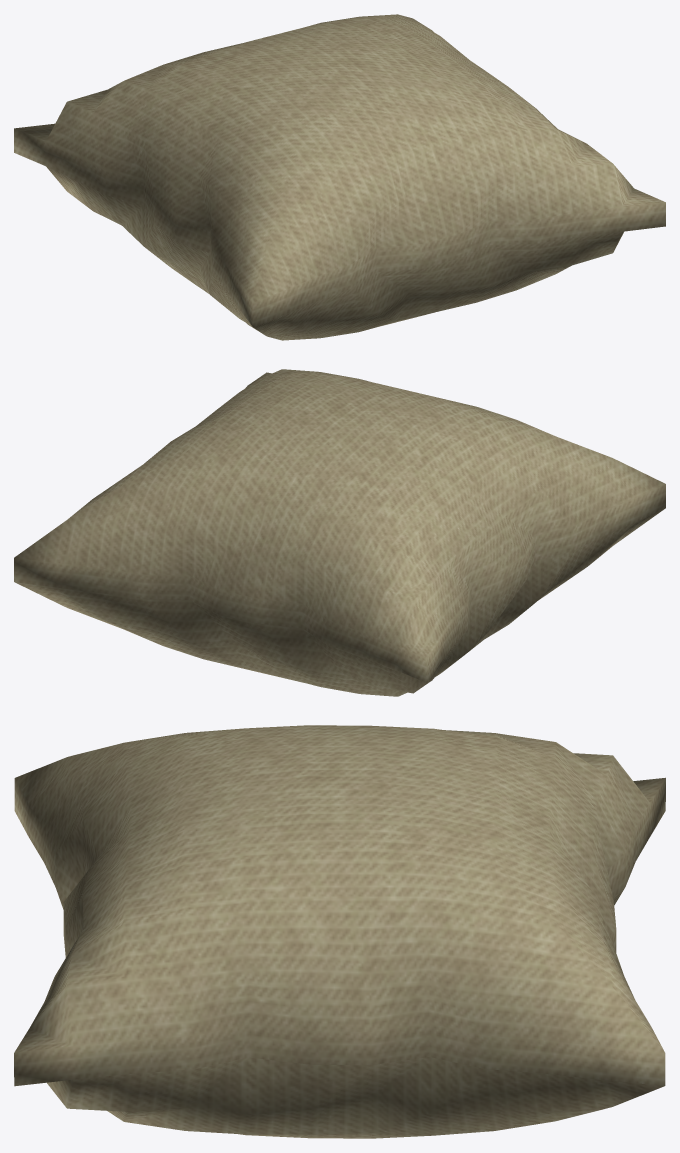
File: pillow_textured_smooth.fbx
The picture shows the model from 3 angles, top to bottom: view 1: azimuth 30°, elevation 25°; view 2: azimuth 150°, elevation 25°; view 3: azimuth 270°, elevation 25°; orthographic projection. The views are drawn at different scales.
Visible parts, largest first — view 1: Plane; view 2: Plane; view 3: Plane.
Part boxes in pixels (<box>): Plane: <box>14,14,665,340</box>; Plane: <box>14,369,665,696</box>; Plane: <box>14,725,665,1138</box>.
Bounding box in the file's own units: 191 × 103 × 191.
